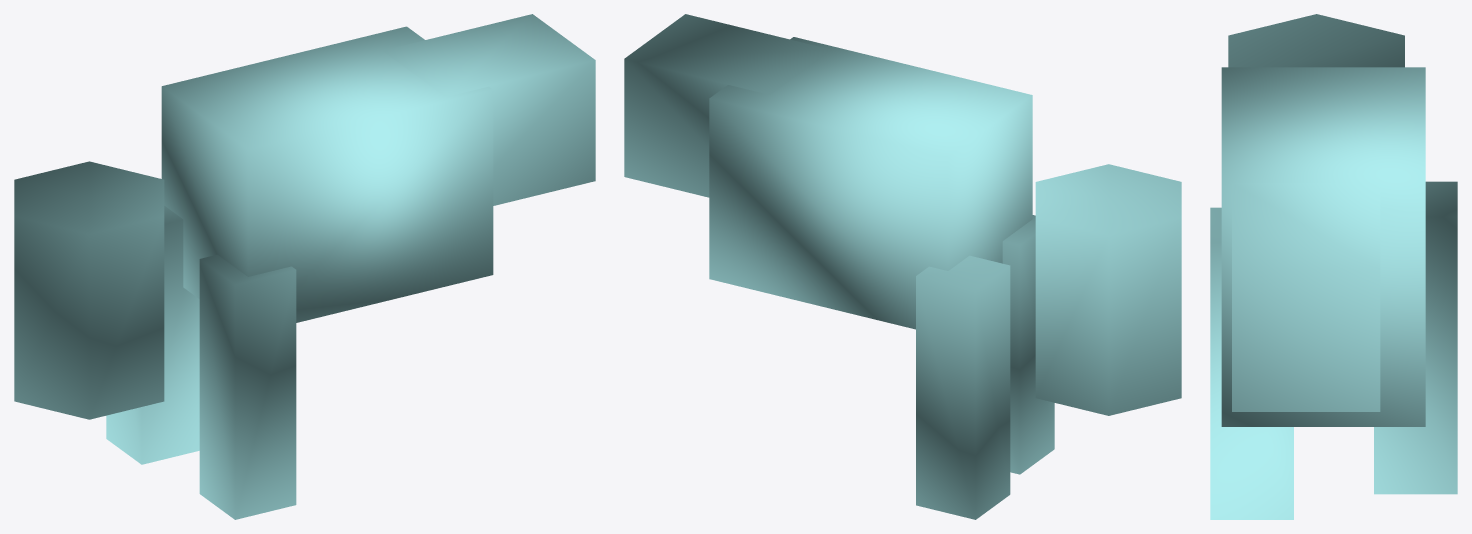
The model's file is ps2_jrpg_imperial_war_construct_sentinel_enemy.obj.
3 renders of one model, left to right at view 1: azimuth 30°, elevation 25°; view 2: azimuth 150°, elevation 25°; view 3: azimuth 270°, elevation 25°, orthographic. The views are drawn at different scales.
Size of the model in its own units: 1.6 by 1.02 by 0.533.
